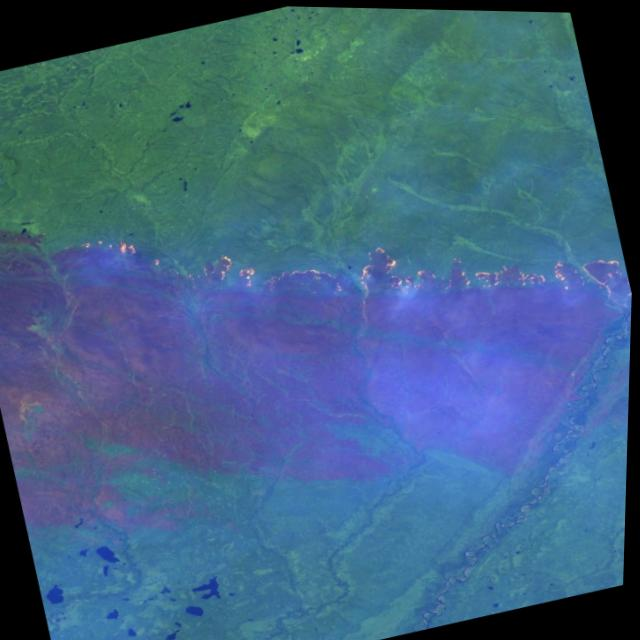fire: (71, 110, 637, 433)
